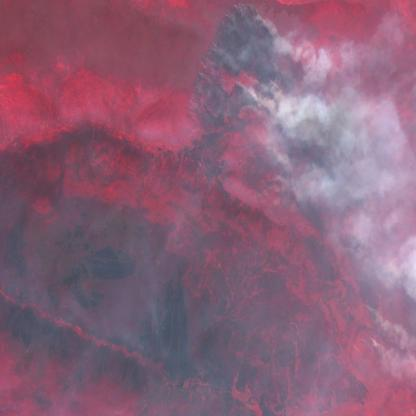fire: (183, 0, 400, 354)
